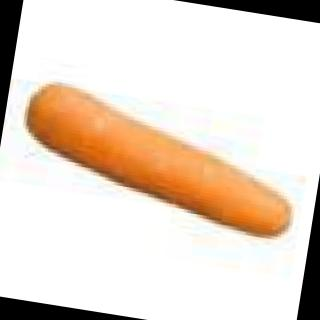Wortel: (4, 65, 312, 259)
